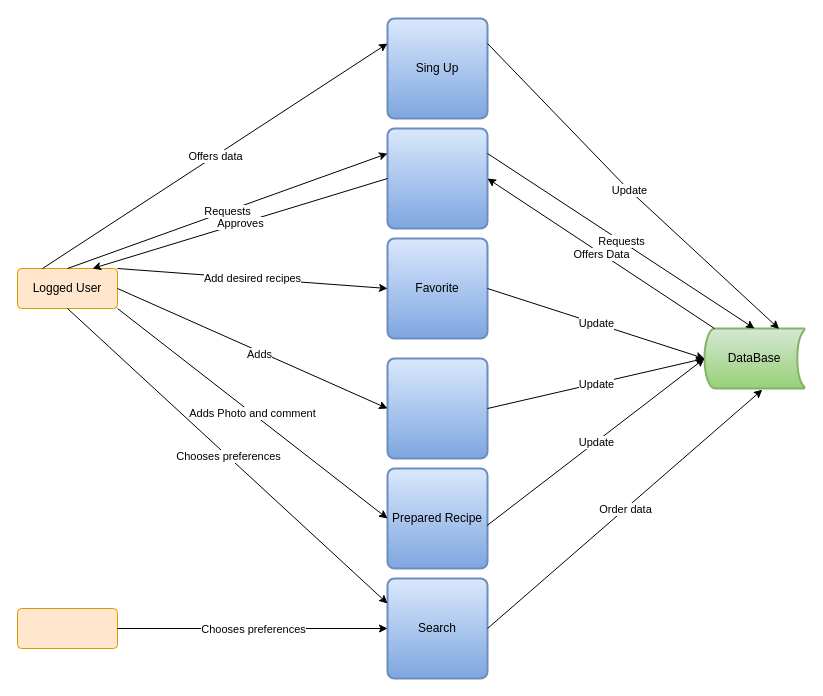
Some shapes in this 823 by 696 pixel diagram are drawn without their labels. The box of each missing label's shape, as (x1, y1, x2, y2) in pixels:
Login: (386, 127, 488, 229)
New Recipe: (386, 357, 488, 459)
User without an account: (16, 608, 118, 648)
